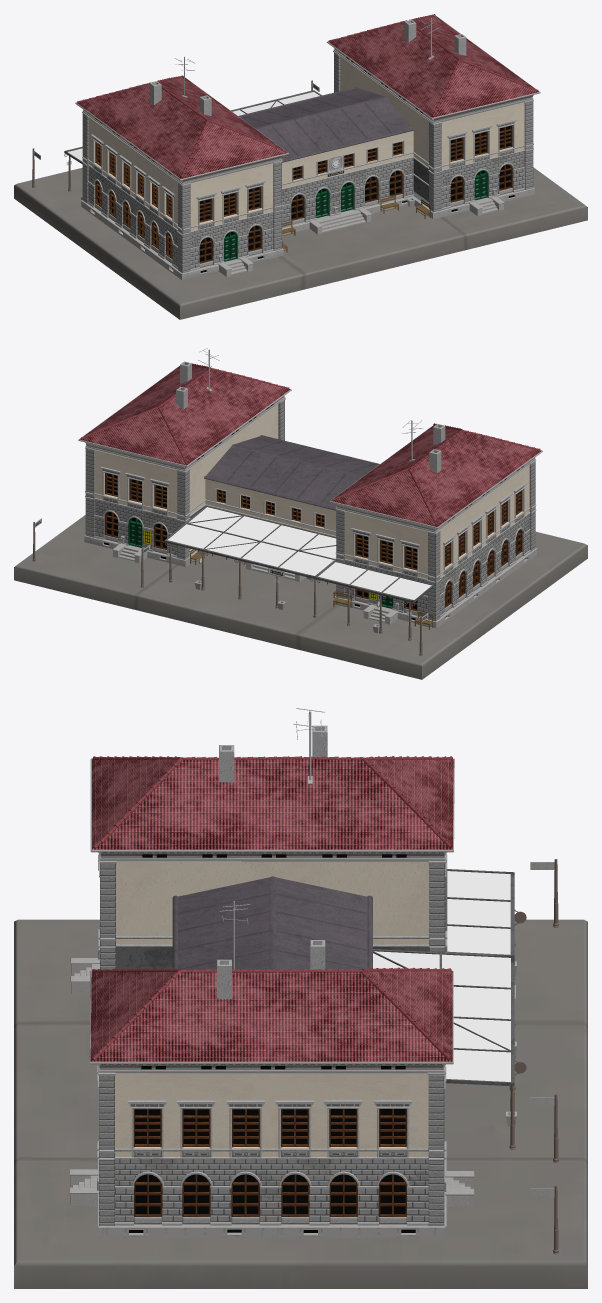
The picture shows the model from 3 angles, top to bottom: view 1: azimuth 30°, elevation 25°; view 2: azimuth 150°, elevation 25°; view 3: azimuth 270°, elevation 25°; orthographic projection. The views are drawn at different scales.
Parts seen in each view (by area): view 1: polySurface331; view 2: polySurface331; view 3: polySurface331.
Part boxes in pixels (x1,y1,x2,y2): polySurface331: (14, 14, 587, 319); polySurface331: (14, 348, 587, 679); polySurface331: (14, 708, 587, 1288).
Size of the model in its own units: 56.48 by 23.59 by 39.76.
Materials: 4 (3 with a texture image).
